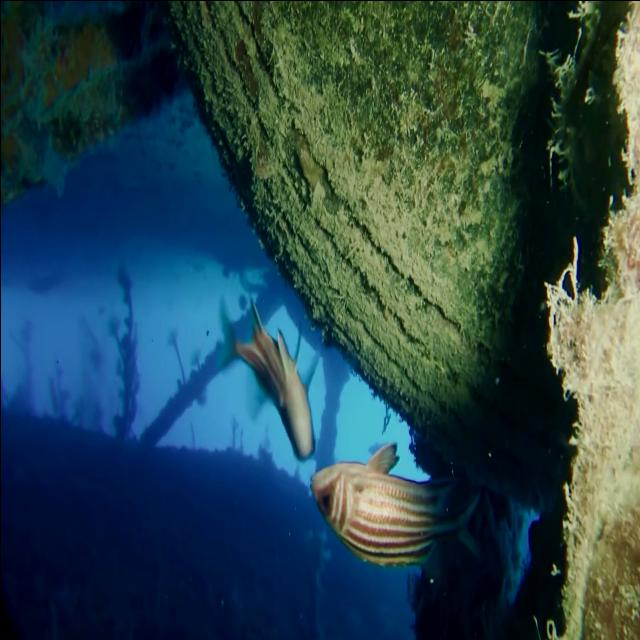Asker Baligi: (308, 440, 482, 570), (218, 294, 320, 462)
